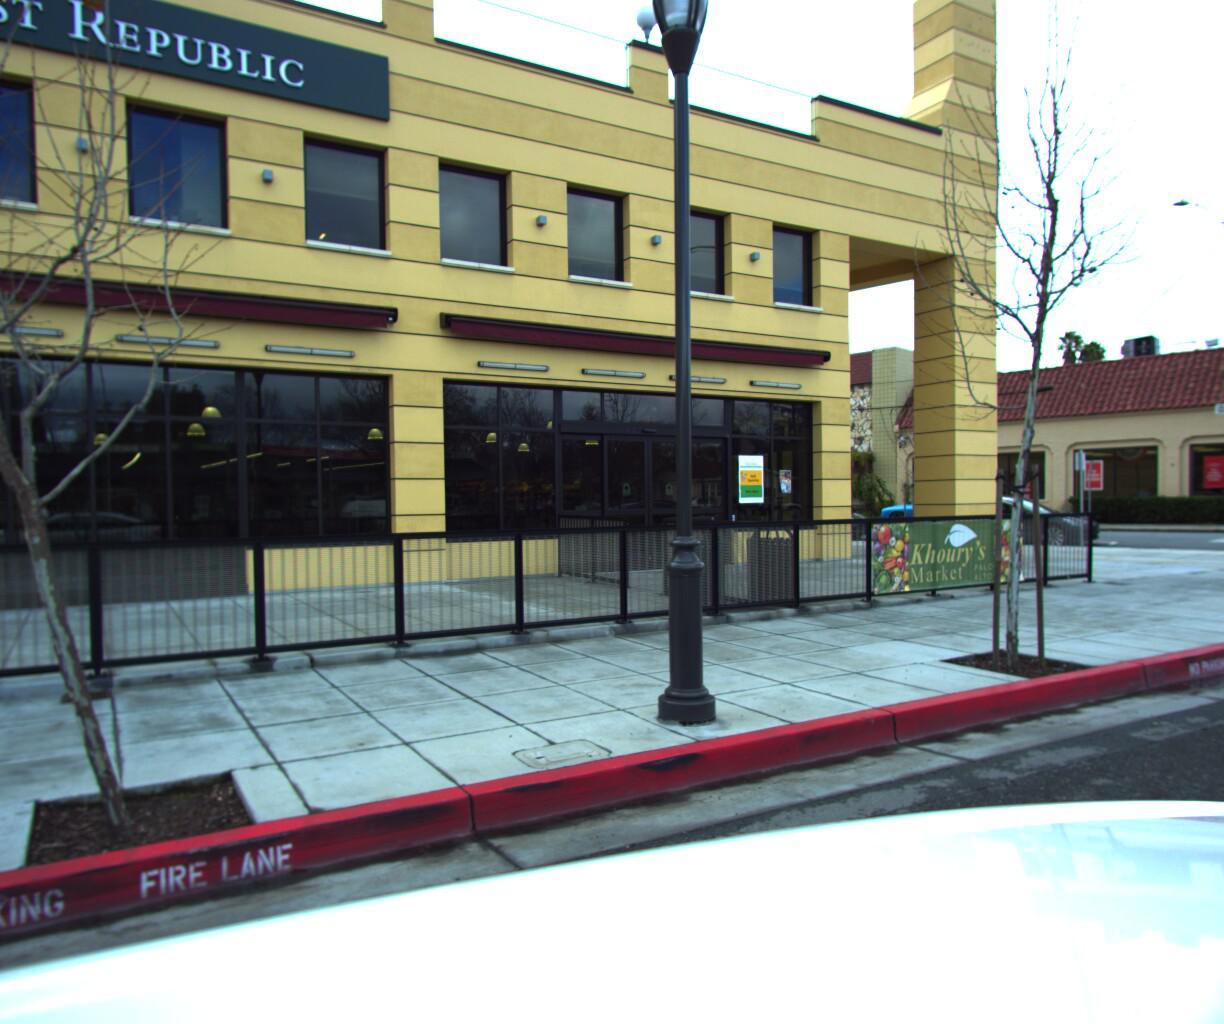car: (927, 487, 1118, 547), (879, 486, 1024, 528)
